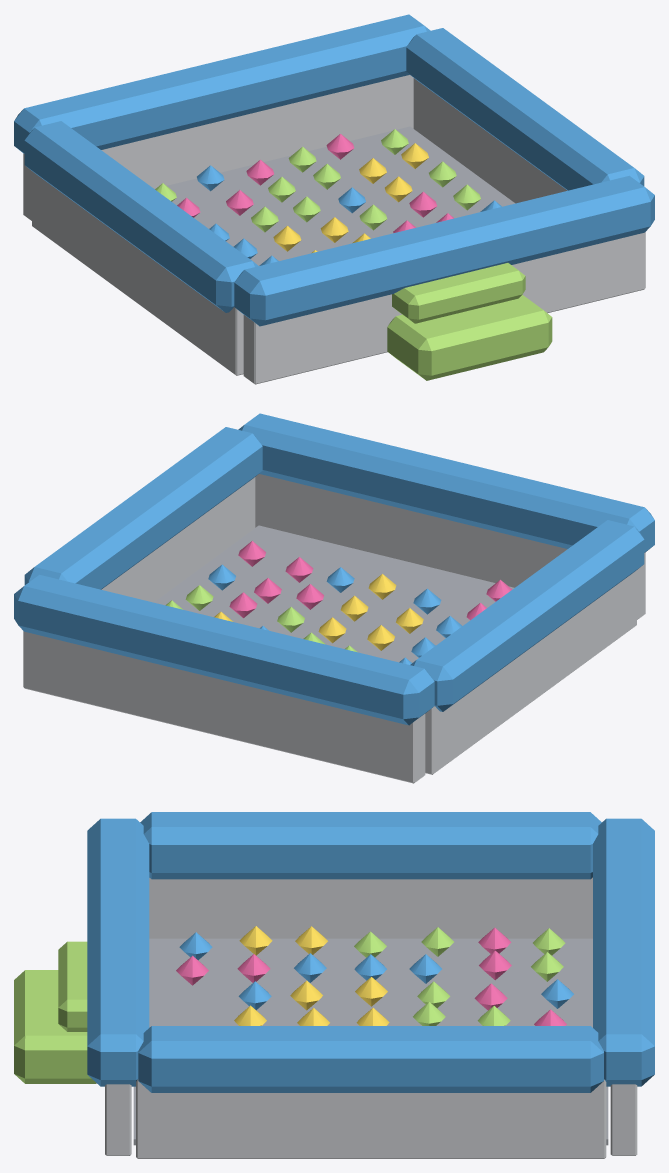
File: trampoline-park-and-soft-play-ball-pit-frame-with-ball-2c1d5d6a__34620.glb
3 views of the same model, one above another, from view 1: azimuth 30°, elevation 25°; view 2: azimuth 150°, elevation 25°; view 3: azimuth 270°, elevation 25° (orthographic). The views are drawn at different scales.
Visible parts, largest first — view 1: ball-pit-frame-with-balls; view 2: ball-pit-frame-with-balls; view 3: ball-pit-frame-with-balls.
Part boxes in pixels (box(x1,y1,x2,y2)): ball-pit-frame-with-balls: box(14, 14, 654, 384); ball-pit-frame-with-balls: box(14, 413, 654, 783); ball-pit-frame-with-balls: box(14, 812, 654, 1158).
Size of the model in its own units: 2.56 by 0.6199 by 2.89.
